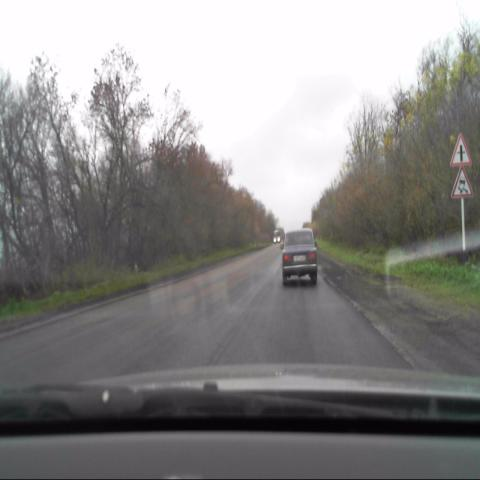2_3: (449, 131, 471, 167)
